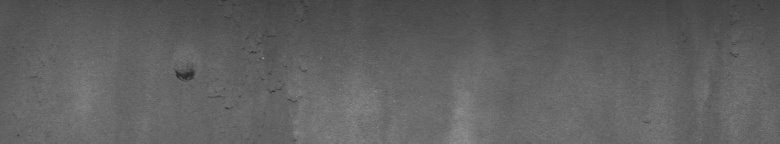fi: (169, 18, 307, 110)
